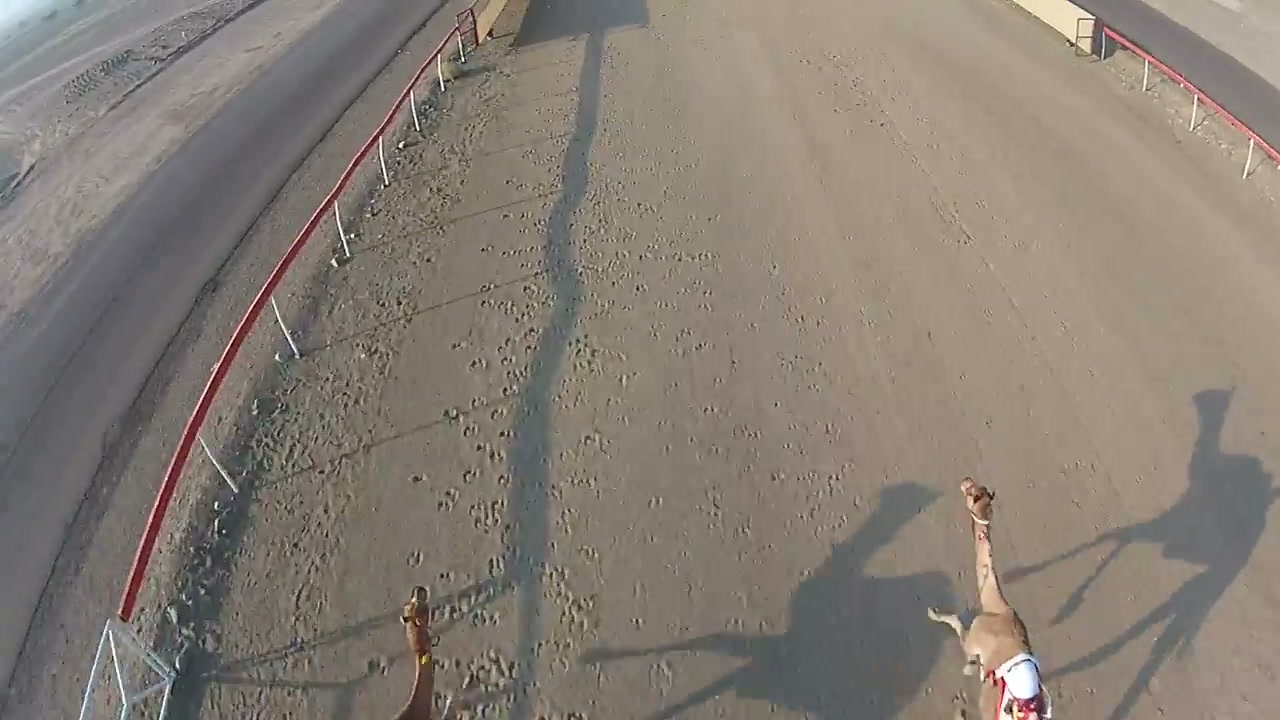animal_foot_print: (429, 134, 624, 675)
